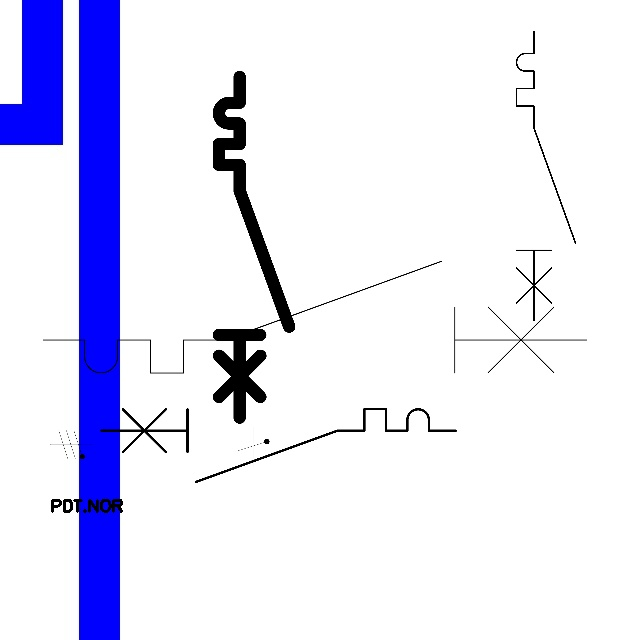interruptor_termomagnetico: (29, 247, 601, 387), (92, 400, 465, 491), (210, 68, 298, 427), (509, 24, 583, 328)
